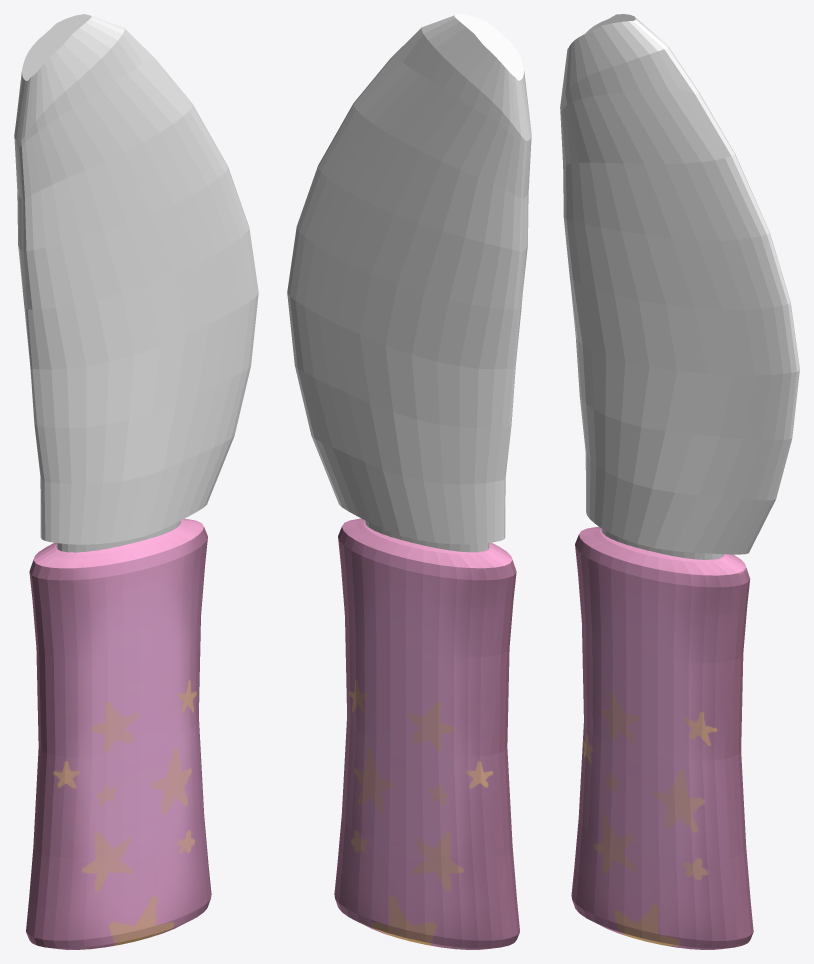
The model's file is butter_knife.glb.
3 views of the same model, side by side, from view 1: azimuth 30°, elevation 25°; view 2: azimuth 150°, elevation 25°; view 3: azimuth 330°, elevation 25° (orthographic).
Parts seen in each view (by area): view 1: Cylinder.002, Cylinder, Cylinder.001; view 2: Cylinder.002, Cylinder, Cylinder.001; view 3: Cylinder.002, Cylinder, Cylinder.001.
Boxes of the visible parts, x1=… form: Cylinder.002: x1=14, y1=14, x2=258, y2=544; Cylinder: x1=26, y1=518, x2=211, y2=949; Cylinder.001: x1=56, y1=520, x2=180, y2=552; Cylinder.002: x1=287, y1=14, x2=531, y2=544; Cylinder: x1=334, y1=518, x2=519, y2=949; Cylinder.001: x1=365, y1=520, x2=489, y2=552; Cylinder.002: x1=560, y1=14, x2=799, y2=554; Cylinder: x1=571, y1=526, x2=753, y2=949; Cylinder.001: x1=601, y1=529, x2=723, y2=559.
Size of the model in its own units: 0.5613 by 2.05 by 0.1721.
Materials: 2 (1 with a texture image).
